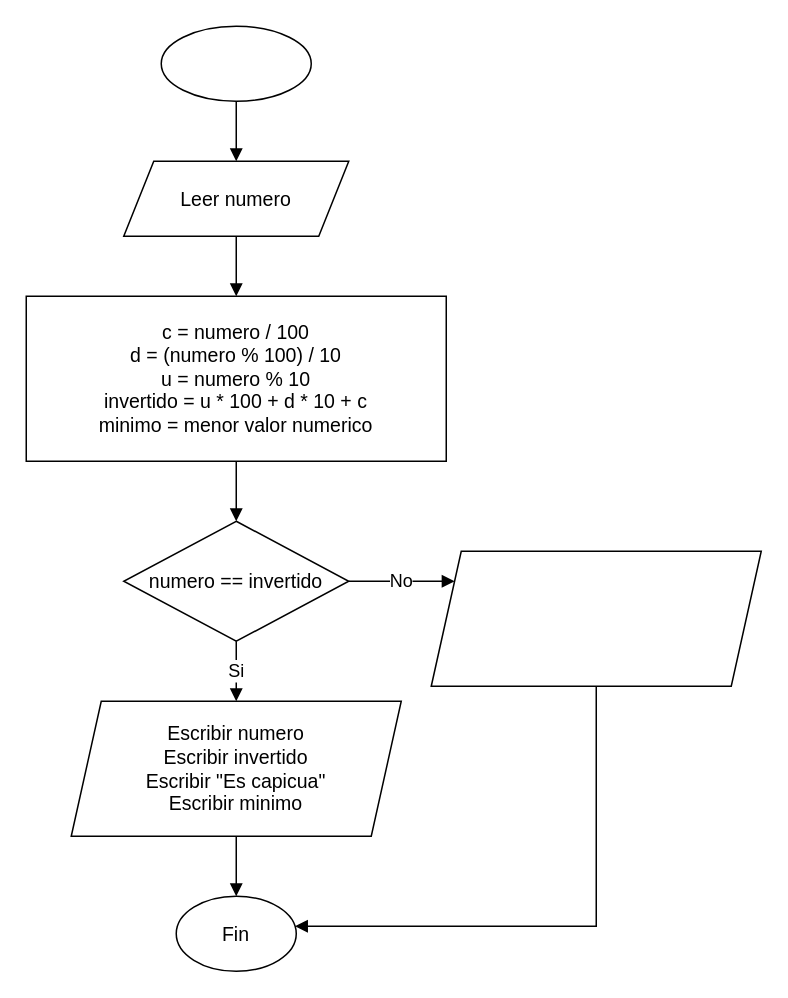
Some shapes in this 788 by 998 pixel diagram are drawn without their labels. The centre of each missing label's shape, as x and y in pixels:
Escribir numero Escribir invertido Escribir "No es capicua" Escribir minimo: point (595, 618)
Inicio: point (235, 63)
